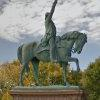Statue: (8, 10, 92, 81)
